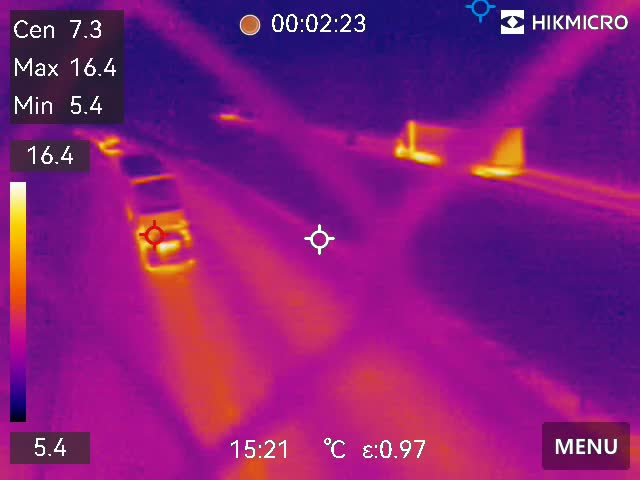heavyTruck: (113, 147, 202, 277), (387, 115, 530, 178)
